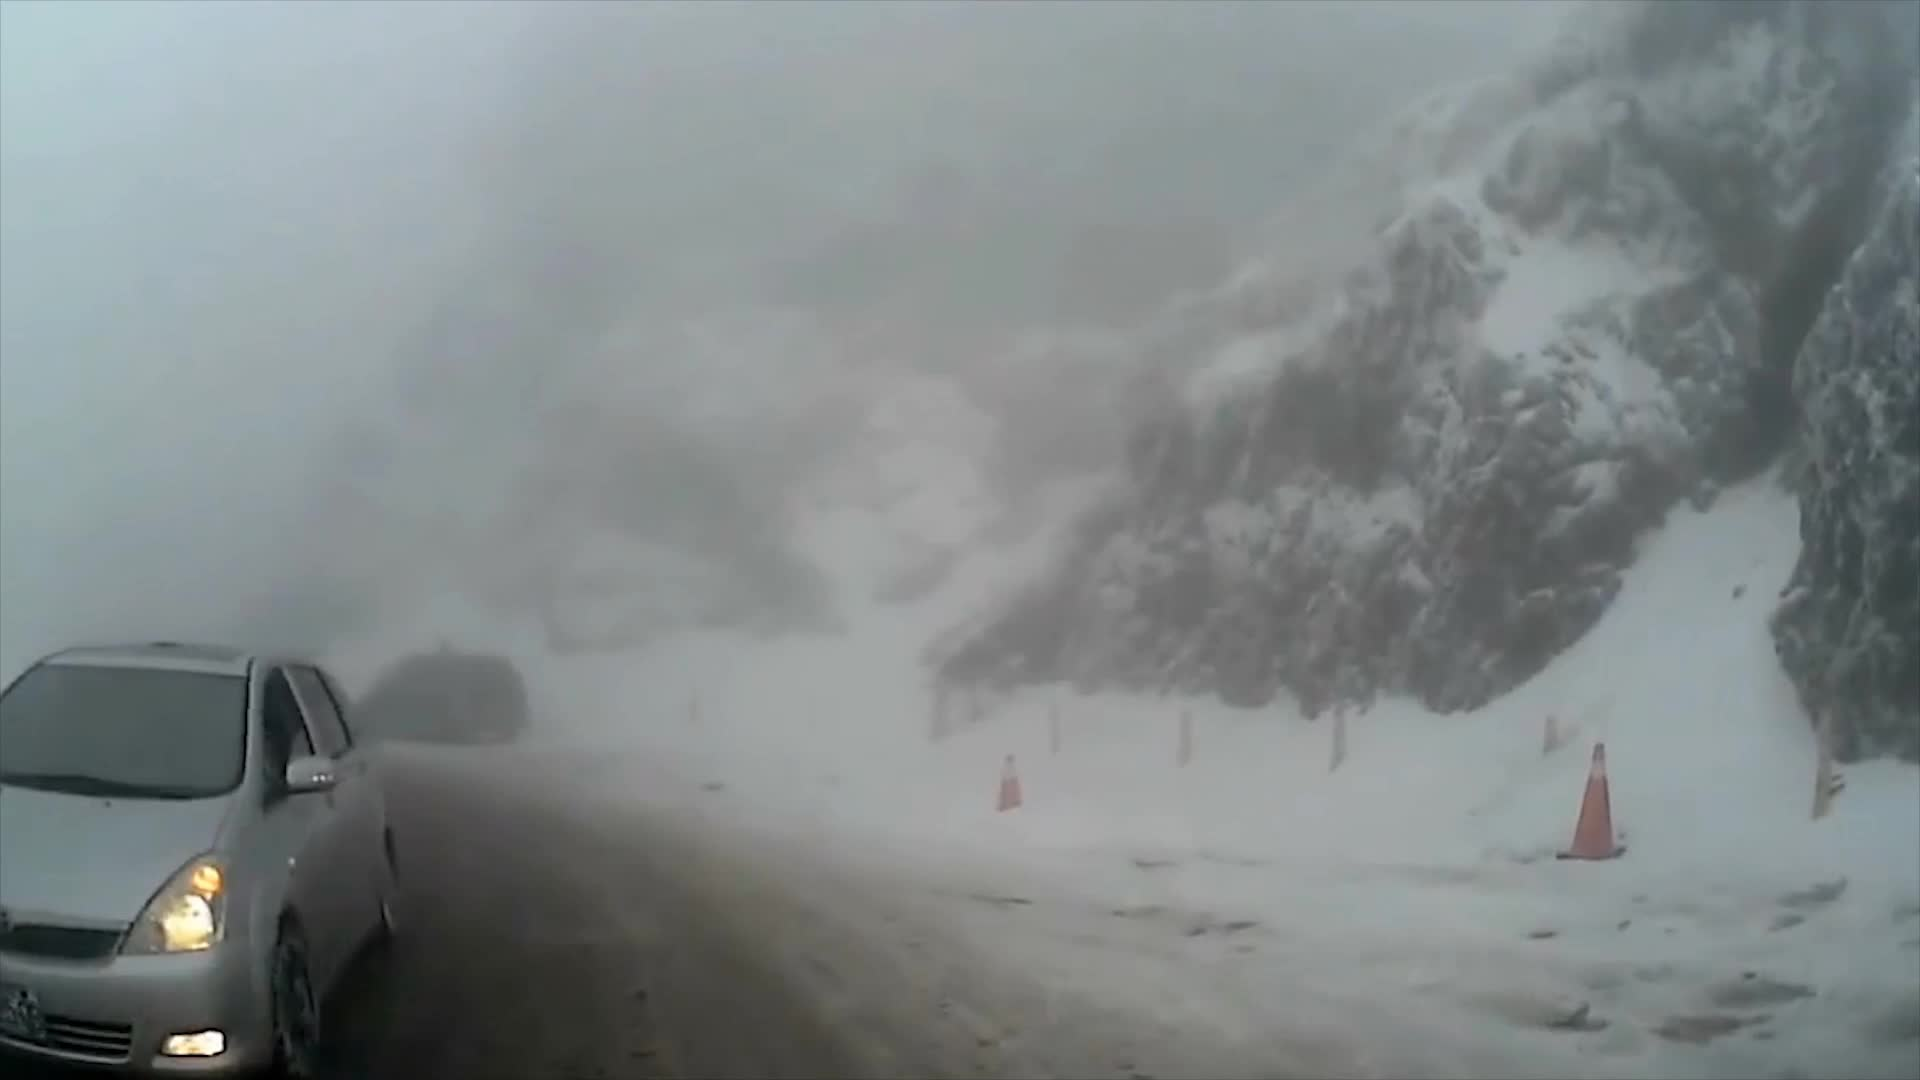vehicle: (0, 636, 406, 1080)
